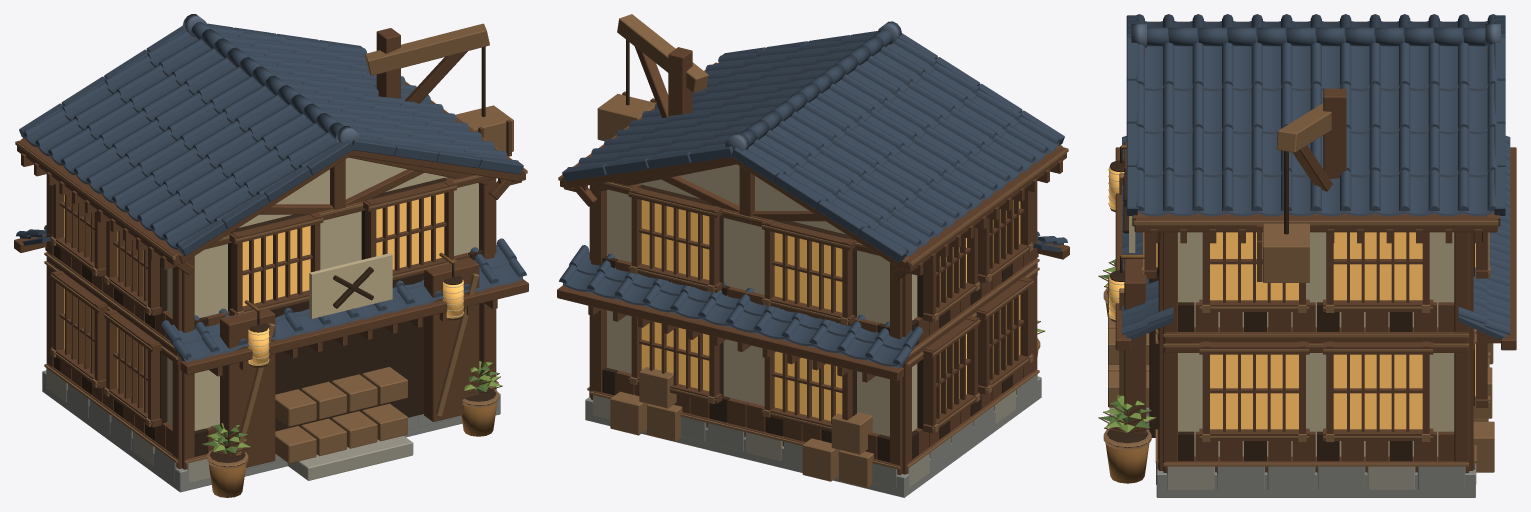
3 views of the same model, side by side, from view 1: azimuth 30°, elevation 25°; view 2: azimuth 150°, elevation 25°; view 3: azimuth 270°, elevation 25° (orthographic). The views are drawn at different scales.
Parts seen in each view (by area): view 1: compact_builders_guild_geometry, compact_builders_guild_geometry ceramic, compact_pendulum_geometry; view 2: compact_builders_guild_geometry, compact_builders_guild_geometry ceramic, compact_pendulum_geometry; view 3: compact_builders_guild_geometry, compact_builders_guild_geometry ceramic, compact_pendulum_geometry.
Part boxes in pixels (x1,y1,x2,y2): compact_builders_guild_geometry: (14,23,528,497); compact_builders_guild_geometry ceramic: (16,14,526,362); compact_pendulum_geometry: (455,46,513,156); compact_builders_guild_geometry: (557,14,1069,497); compact_builders_guild_geometry ceramic: (559,21,1067,368); compact_pendulum_geometry: (597,39,655,141); compact_builders_guild_geometry: (1098,21,1516,497); compact_builders_guild_geometry ceramic: (1122,14,1510,340); compact_pendulum_geometry: (1257,151,1309,282).
Bounding box in the file's own units: 1.04 × 0.8389 × 0.8173.
